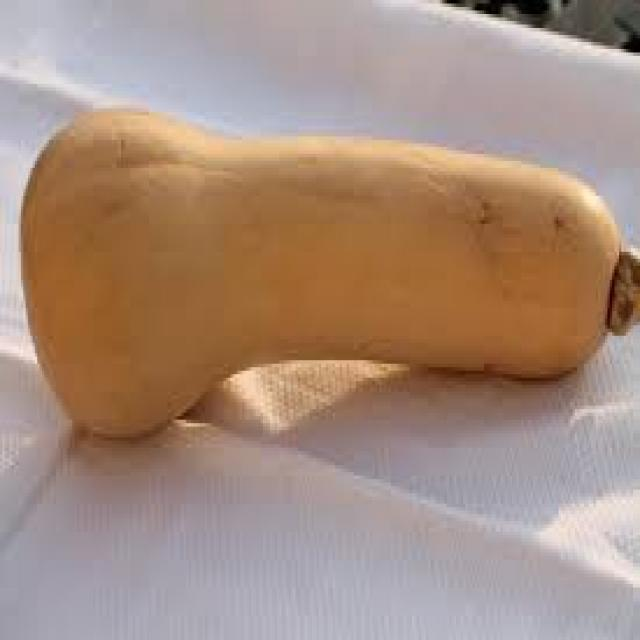organic waste: (16, 102, 638, 444)
